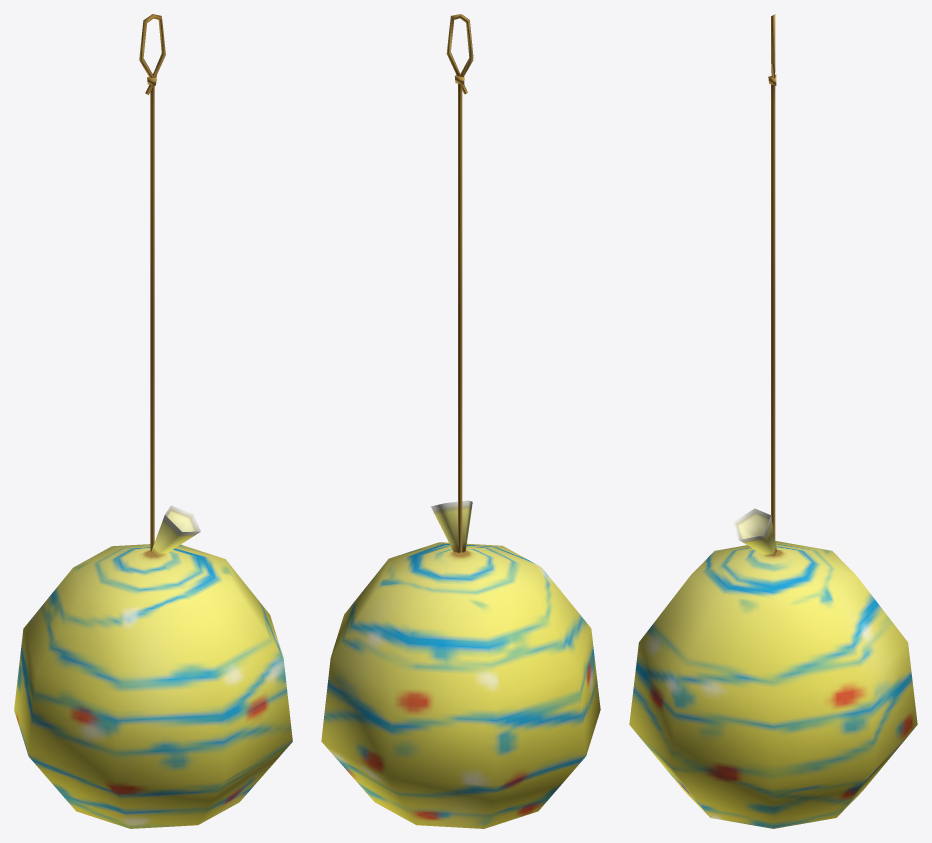
File: jsf_WaterBalloon_06_a.fbx
3 renders of one model, left to right at view 1: azimuth 30°, elevation 25°; view 2: azimuth 150°, elevation 25°; view 3: azimuth 270°, elevation 25°, orthographic.
Parts seen in each view (by area): view 1: jsf_WaterBalloon_06_a; view 2: jsf_WaterBalloon_06_a; view 3: jsf_WaterBalloon_06_a.
Part boxes in pixels (left/top/right/bottom): jsf_WaterBalloon_06_a: left=14, top=14, right=292, bottom=828; jsf_WaterBalloon_06_a: left=321, top=14, right=600, bottom=828; jsf_WaterBalloon_06_a: left=629, top=14, right=917, bottom=828.
Size of the model in its own units: 10.92 by 33.54 by 10.92.
